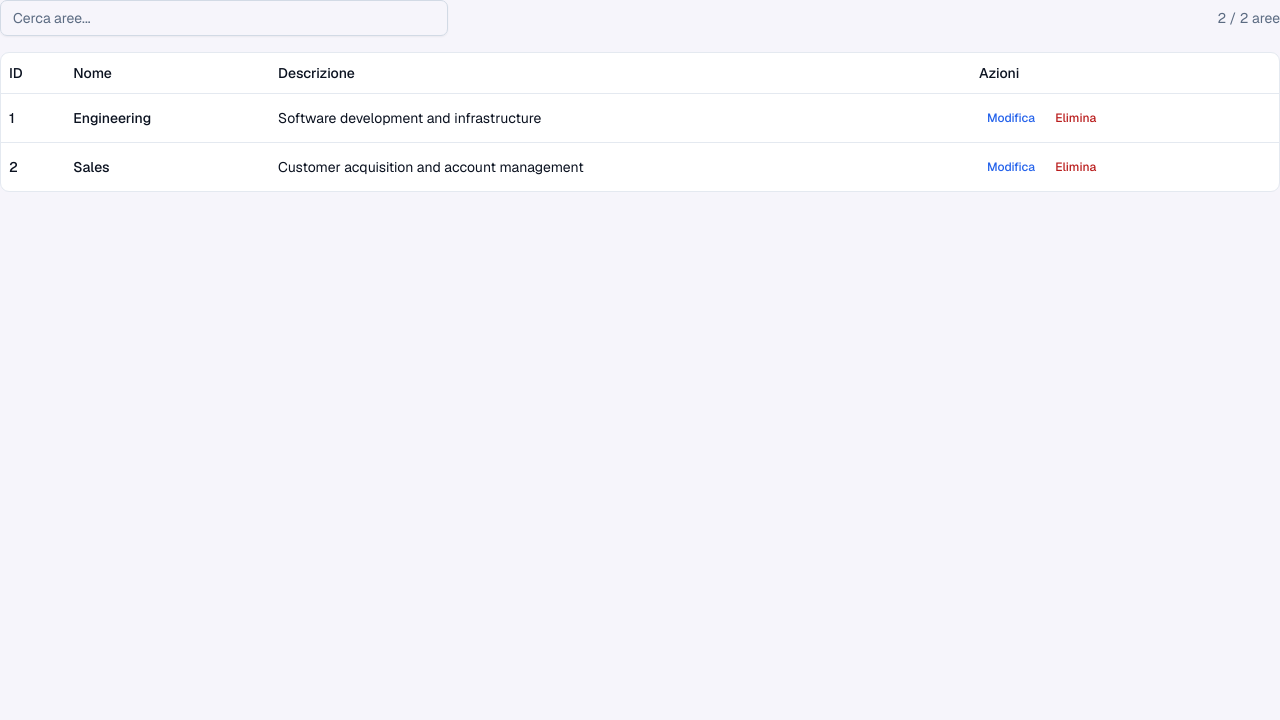
Test: BusinessAreaTable › closes the delete dialog when Cancel is clicked
Click the button "Elimina" in the row of "Engineering".
click(1076, 118)  # box [1047,102,1104,134]
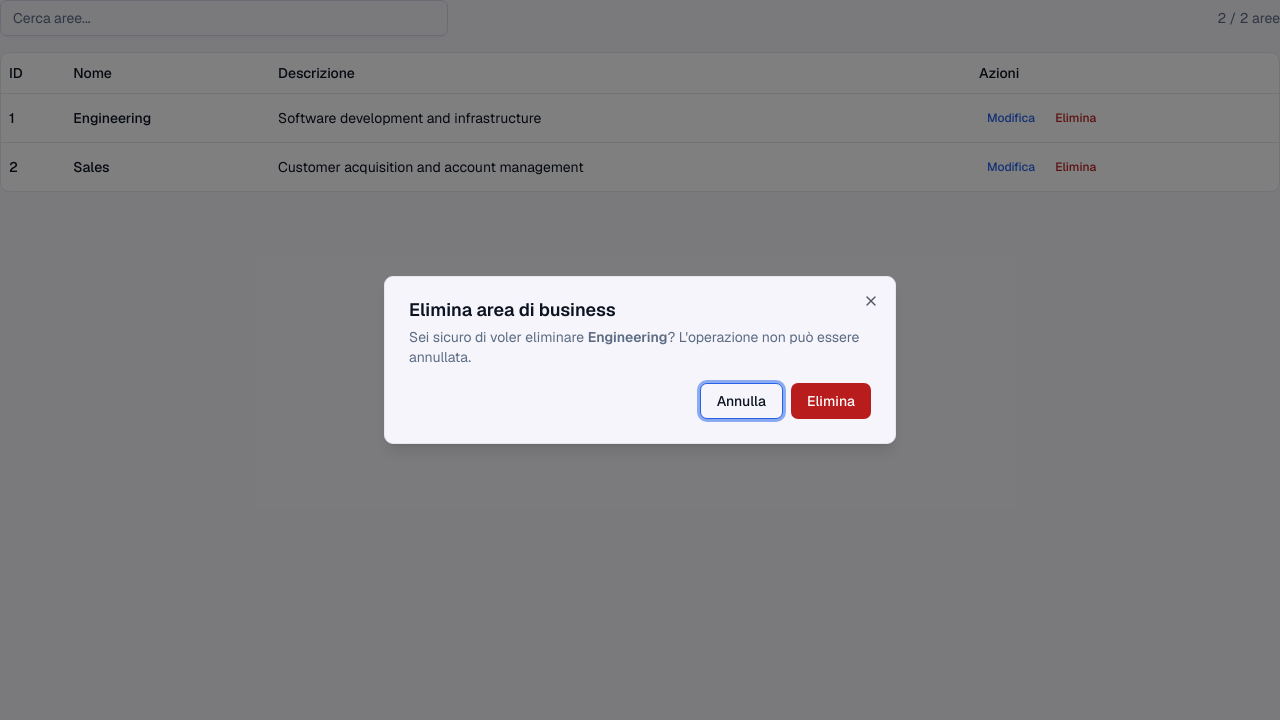
expect the dialog is shown: met, box [384,276,896,444]
Click the button "Annulla".
click(741, 401)  # box [700,383,783,419]
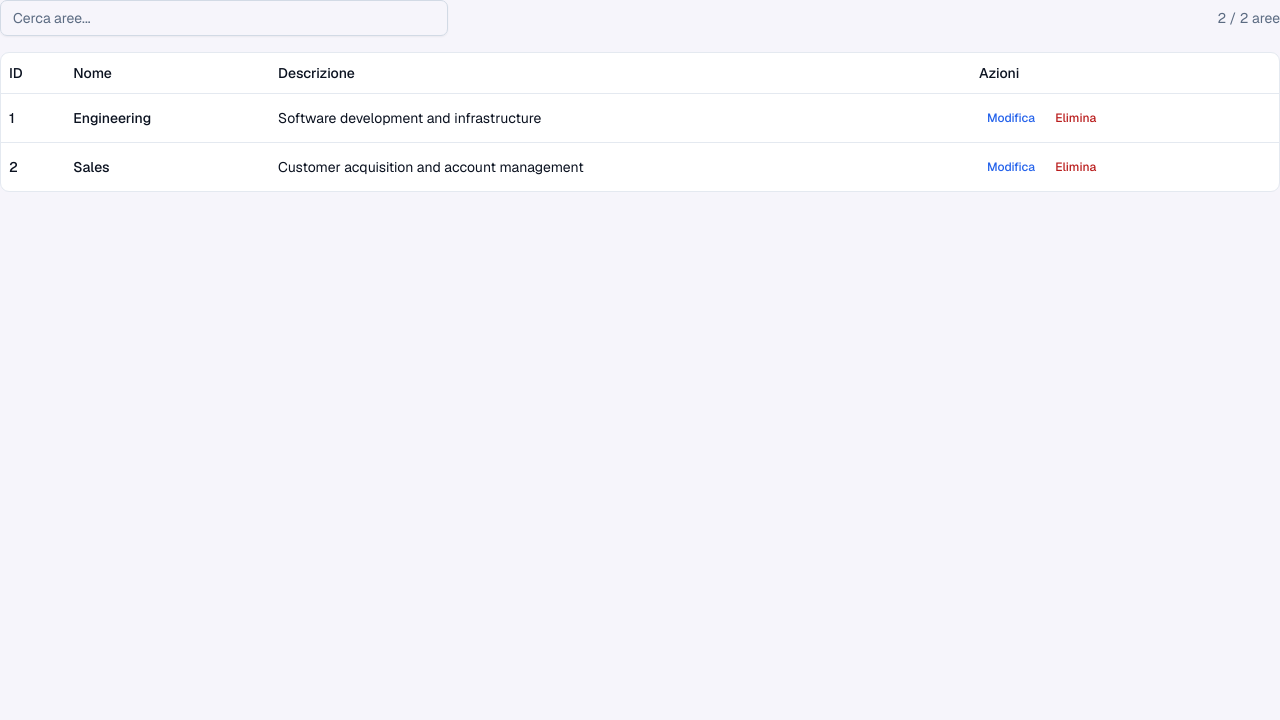
expect the dialog is gone: met
